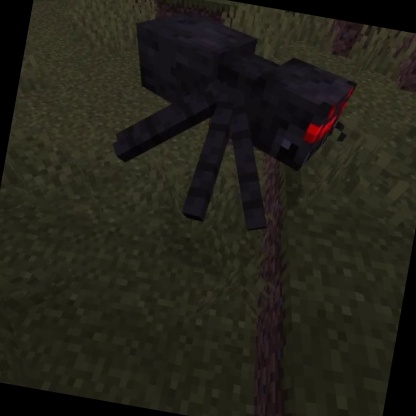spider: (94, 0, 369, 251)
